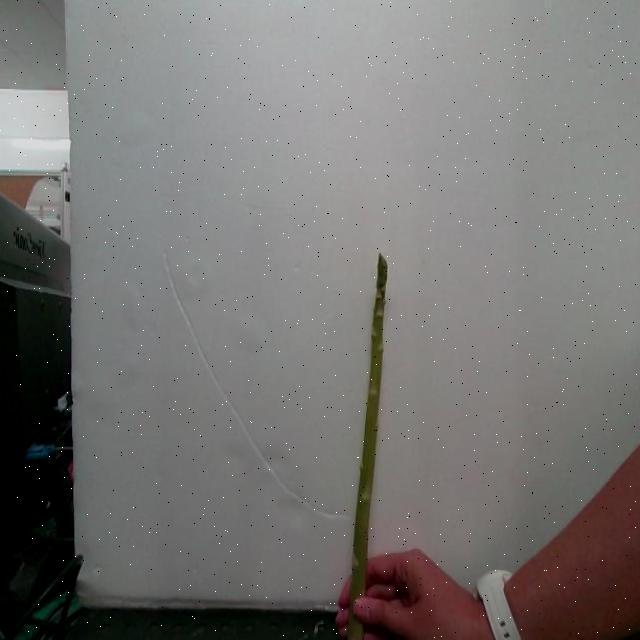aspargus: (340, 257, 391, 640)
